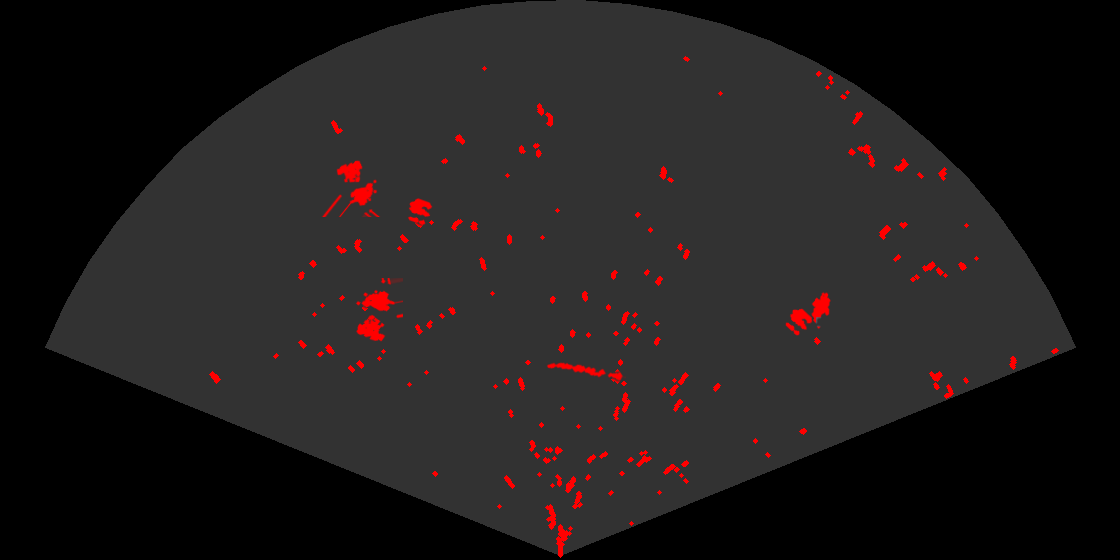AUV: (810, 290, 832, 331)
ball: (784, 307, 814, 337), (406, 197, 434, 227)
cage: (320, 159, 382, 217), (354, 278, 403, 343)
chain: (545, 361, 626, 383)
